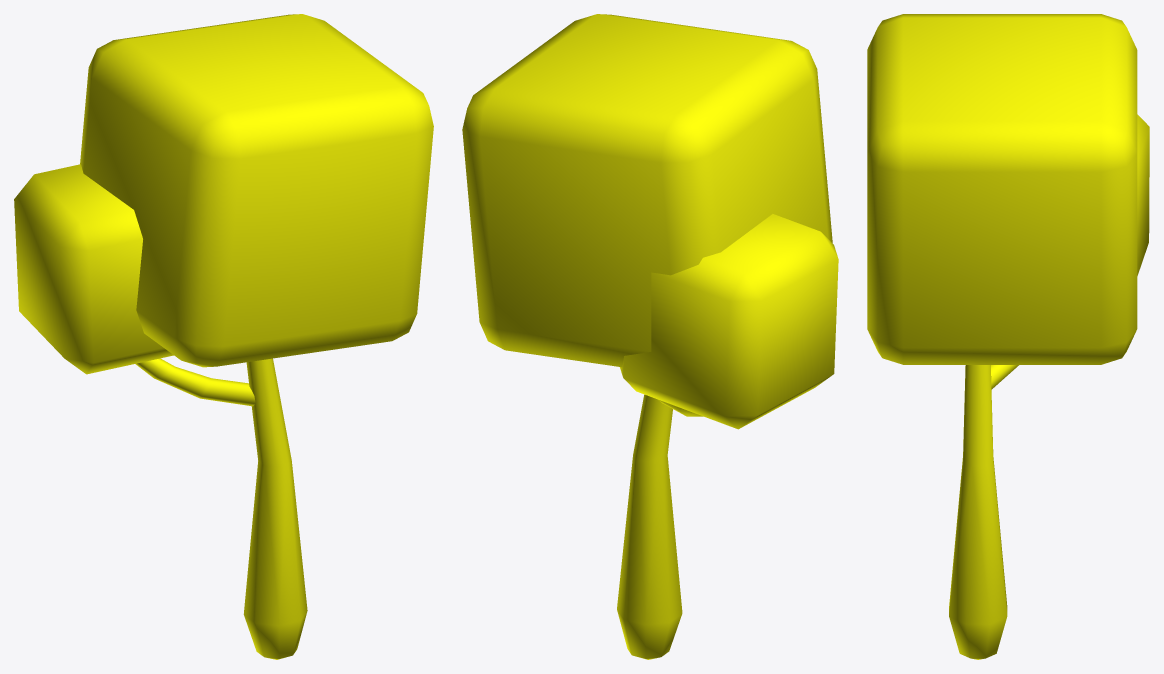
The model's file is kaykit-tree-2-a-color-1.glb.
3 renders of one model, left to right at view 1: azimuth 30°, elevation 25°; view 2: azimuth 150°, elevation 25°; view 3: azimuth 270°, elevation 25°, orthographic. The views are drawn at different scales.
Parts seen in each view (by area): view 1: Tree_2_A_Color1; view 2: Tree_2_A_Color1; view 3: Tree_2_A_Color1.
Part boxes in pixels (box(x1,y1,x2,y2)): Tree_2_A_Color1: box(14, 14, 433, 659); Tree_2_A_Color1: box(462, 14, 838, 659); Tree_2_A_Color1: box(867, 14, 1149, 659).
Bounding box in the file's own units: 2.6 × 4.67 × 2.
